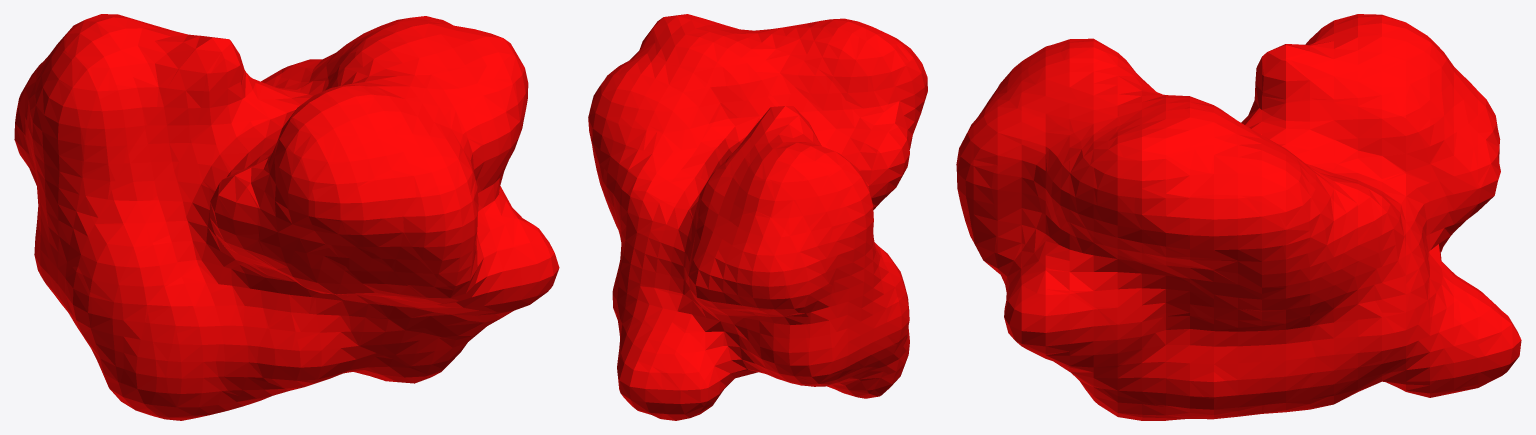
File: metJ_coarse.dae
3 views of the same model, side by side, from view 1: azimuth 30°, elevation 25°; view 2: azimuth 150°, elevation 25°; view 3: azimuth 270°, elevation 25° (orthographic). The views are drawn at different scales.
Parts seen in each view (by area): view 1: metJ; view 2: metJ; view 3: metJ.
Boxes of the visible parts, left/top/right/bottom form: metJ: left=14, top=14, right=559, bottom=420; metJ: left=588, top=14, right=927, bottom=420; metJ: left=956, top=14, right=1521, bottom=420.
Bounding box in the file's own units: 46.2 × 40.53 × 58.74.
